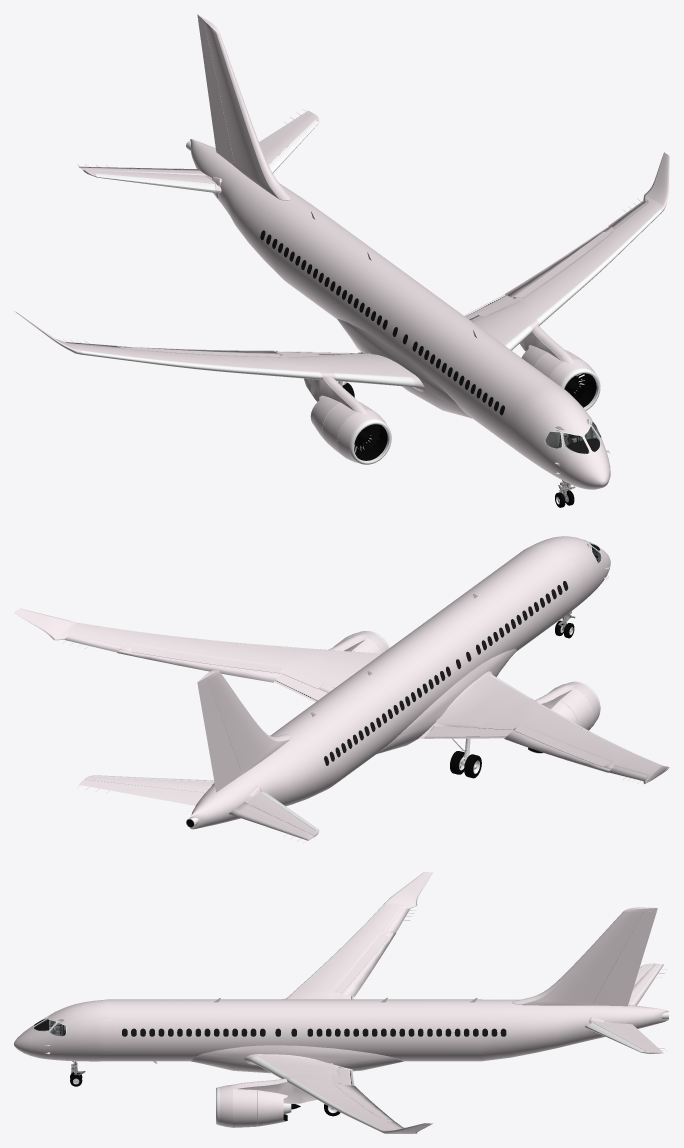
3 renders of one model, top to bottom at view 1: azimuth 30°, elevation 25°; view 2: azimuth 150°, elevation 25°; view 3: azimuth 270°, elevation 25°, orthographic. The views are drawn at different scales.
Parts seen in each view (by area): view 1: Cube.005; view 2: Cube.005; view 3: Cube.005.
Boxes of the visible parts, x1,y1,x2,y2 form: Cube.005: (14, 14, 669, 507); Cube.005: (14, 536, 669, 843); Cube.005: (14, 872, 668, 1133).
Bounding box in the file's own units: 35.27 × 11.78 × 38.9.
4 materials, 4 textured.
